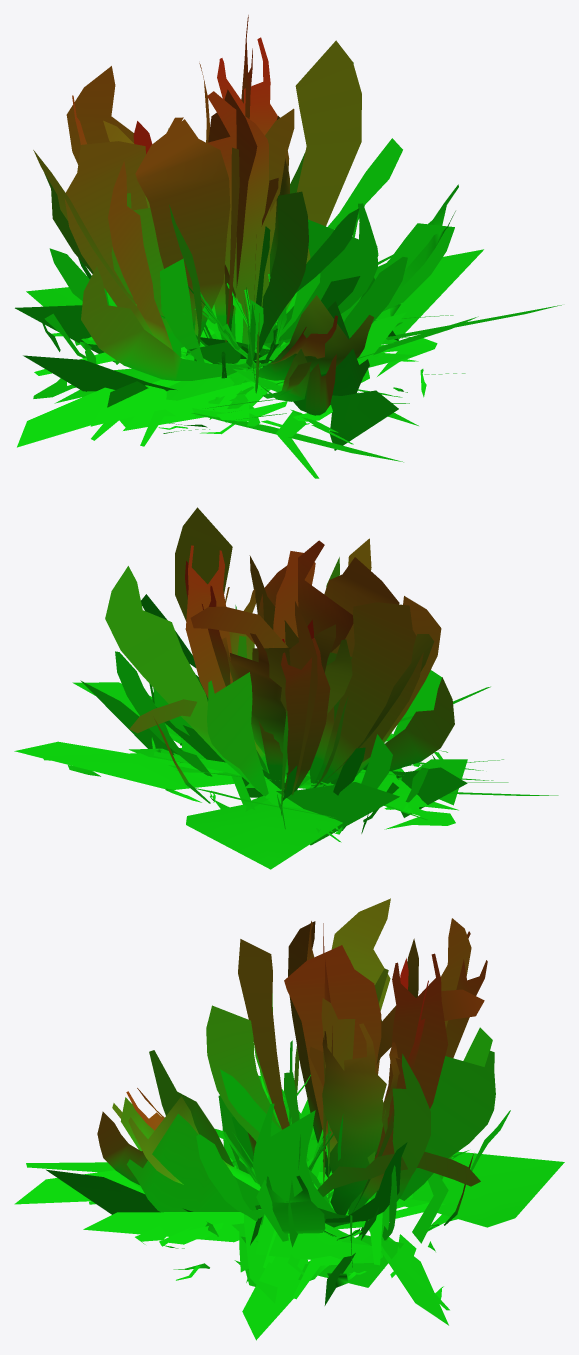
File: Dead Shrubs_LOD1_Var5_vdknafgha.fbx
3 views of the same model, one above another, from view 1: azimuth 30°, elevation 25°; view 2: azimuth 150°, elevation 25°; view 3: azimuth 270°, elevation 25° (orthographic). The views are drawn at different scales.
Parts seen in each view (by area): view 1: _emyr_Var5_LOD1; view 2: _emyr_Var5_LOD1; view 3: _emyr_Var5_LOD1.
Part boxes in pixels (<box>): _emyr_Var5_LOD1: <box>15,15,561,478</box>; _emyr_Var5_LOD1: <box>14,507,558,869</box>; _emyr_Var5_LOD1: <box>14,898,564,1340</box>.
Size of the model in its own units: 123 by 66.29 by 106.
